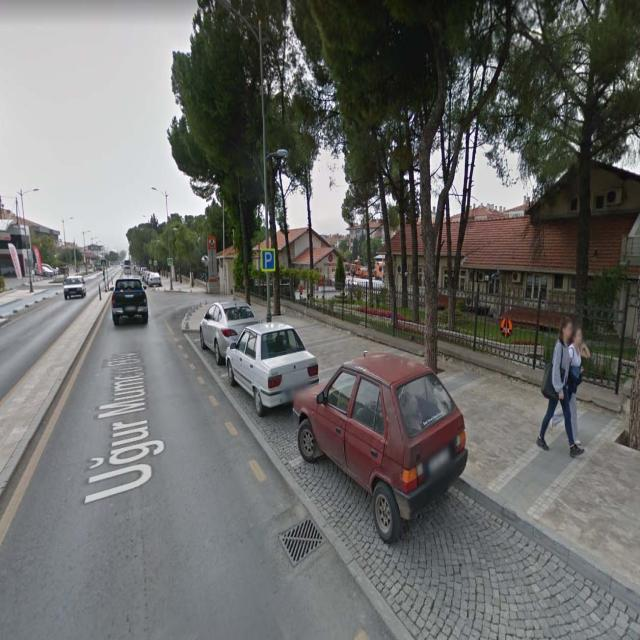park: (262, 250, 274, 269)
